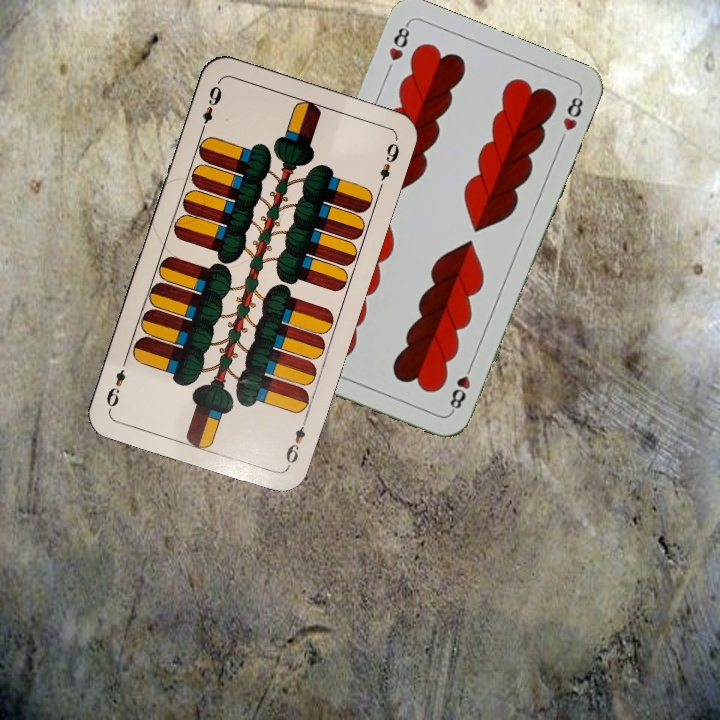E9: (196, 79, 225, 136), (282, 413, 310, 470)
H8: (445, 358, 476, 414), (385, 20, 413, 63)
